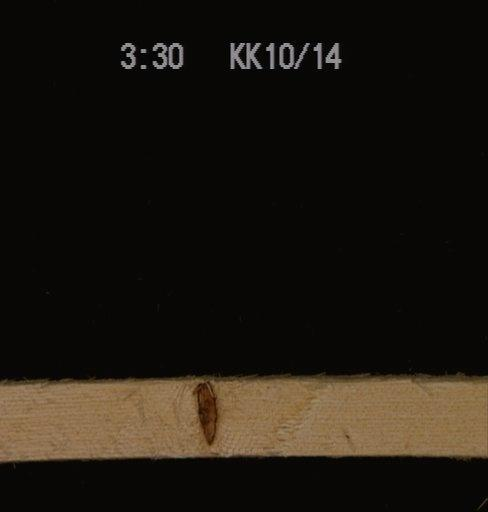edge_knot: (190, 378, 219, 447)
